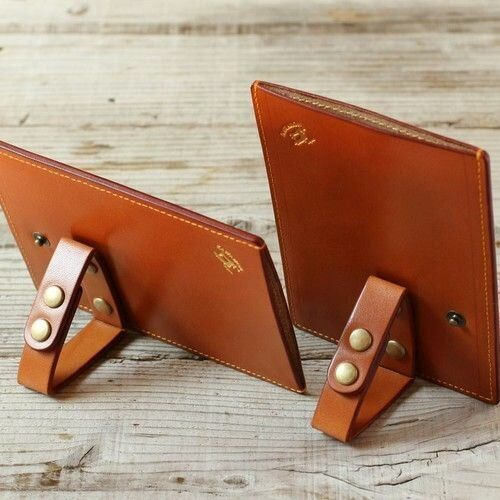cuero: (2, 79, 500, 442)
